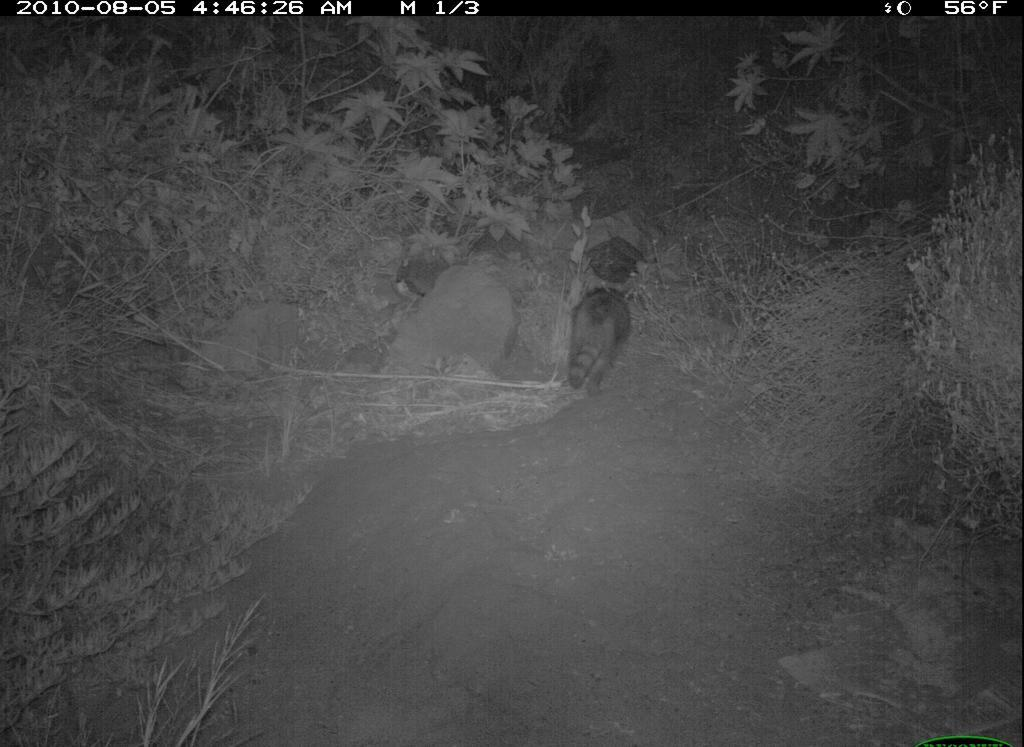raccoon: (562, 246, 647, 406)
